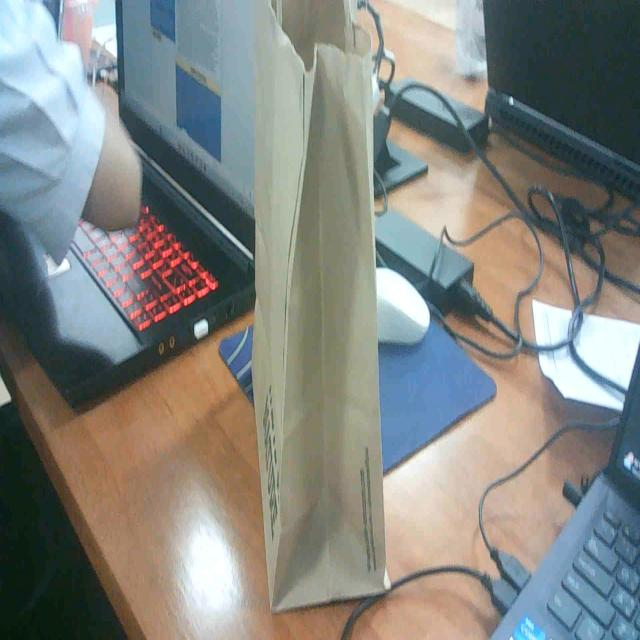bag: (245, 11, 408, 623)
